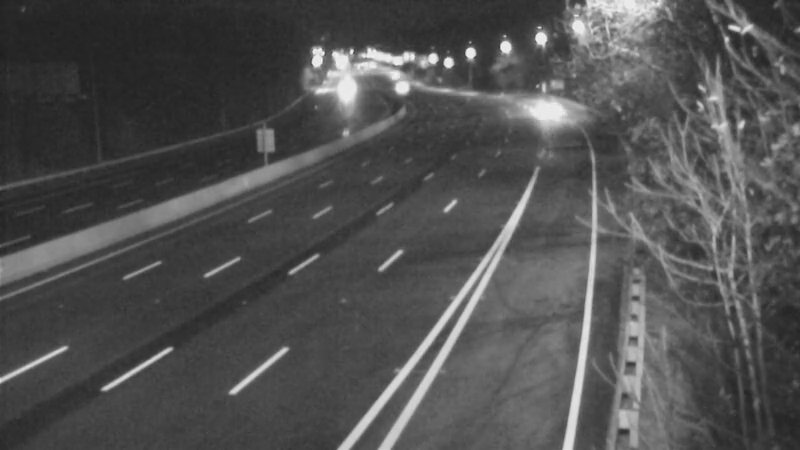vehicle: (365, 51, 415, 101), (374, 62, 424, 112), (514, 84, 564, 134), (321, 67, 371, 117)
